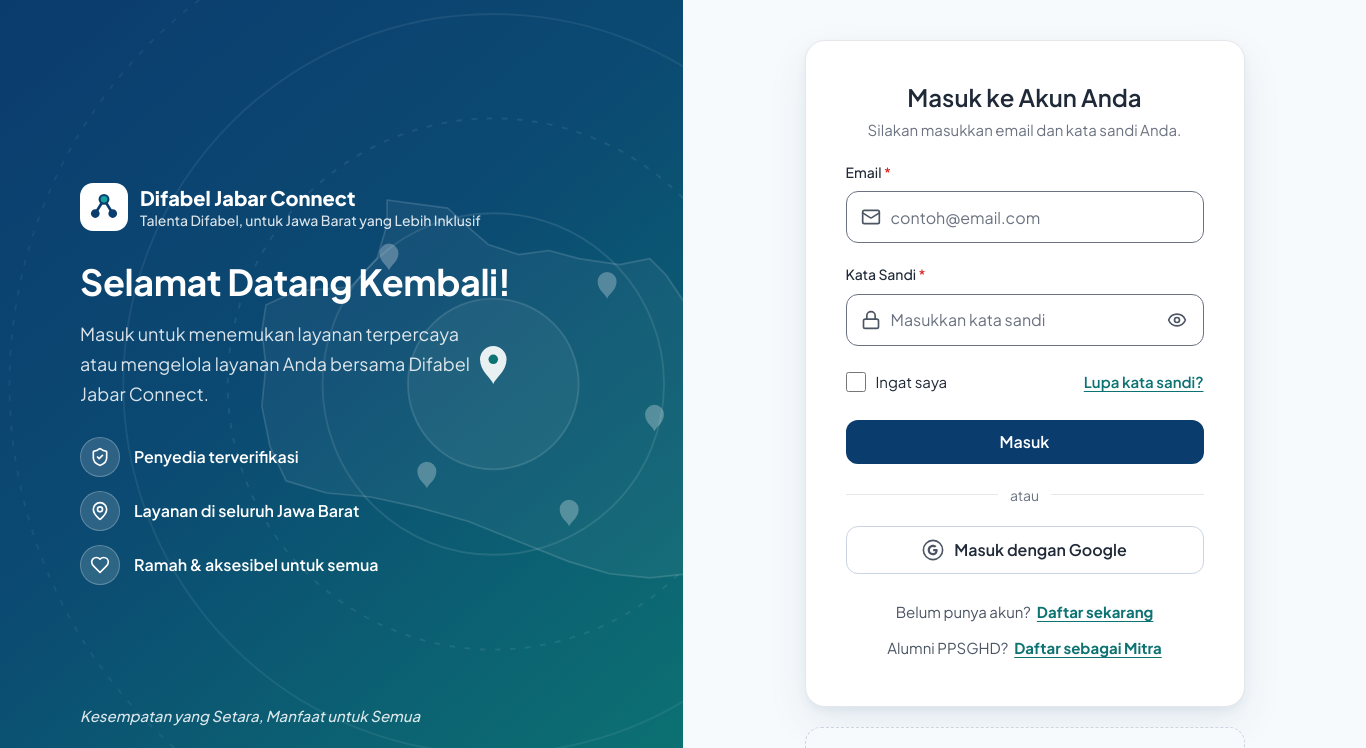
Test: Masuk dengan Google › tanpa VITE_GOOGLE_CLIENT_ID menampilkan petunjuk konfigurasi
This screenshot has width=1366, height=748.
Click the button "Masuk dengan Google" at {"x": 1024, "y": 550}, box [846,526,1204,574]
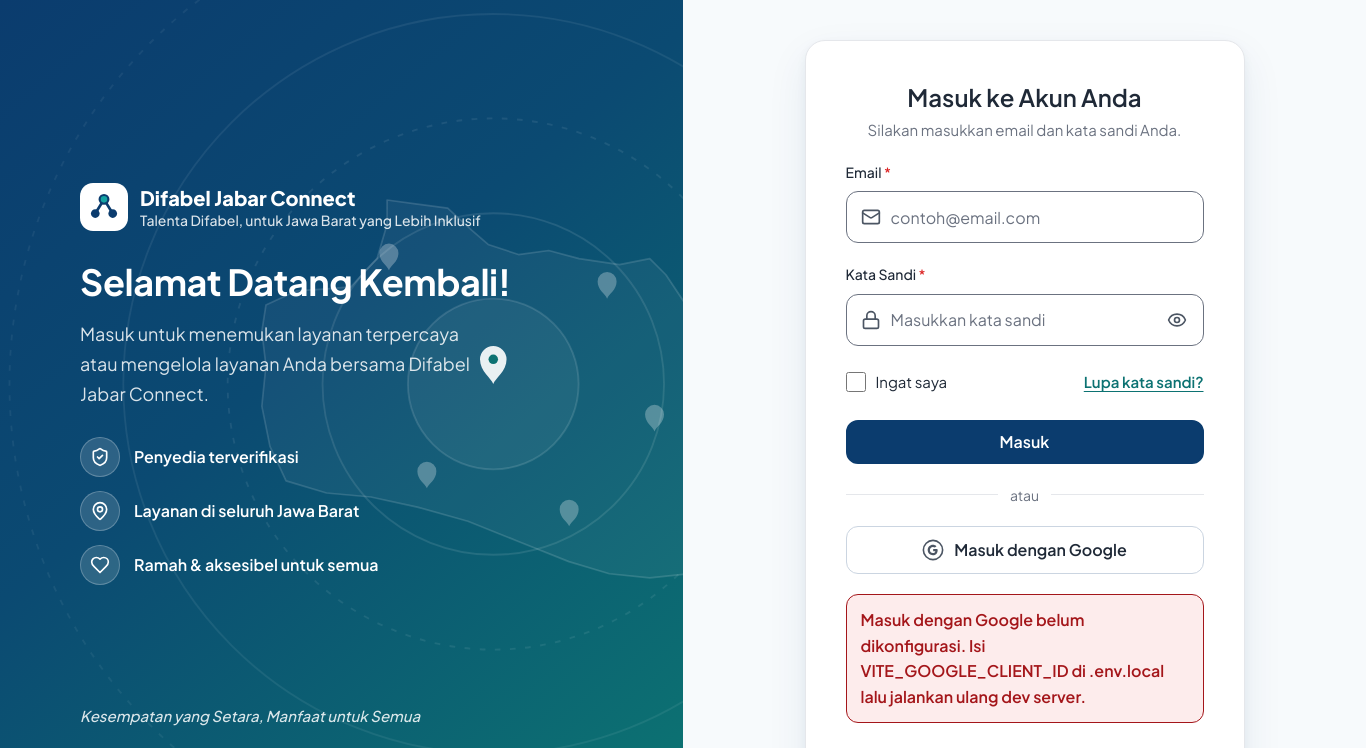
Expected: the message shows "VITE_GOOGLE_CLIENT_ID", [860,609,1164,707]
